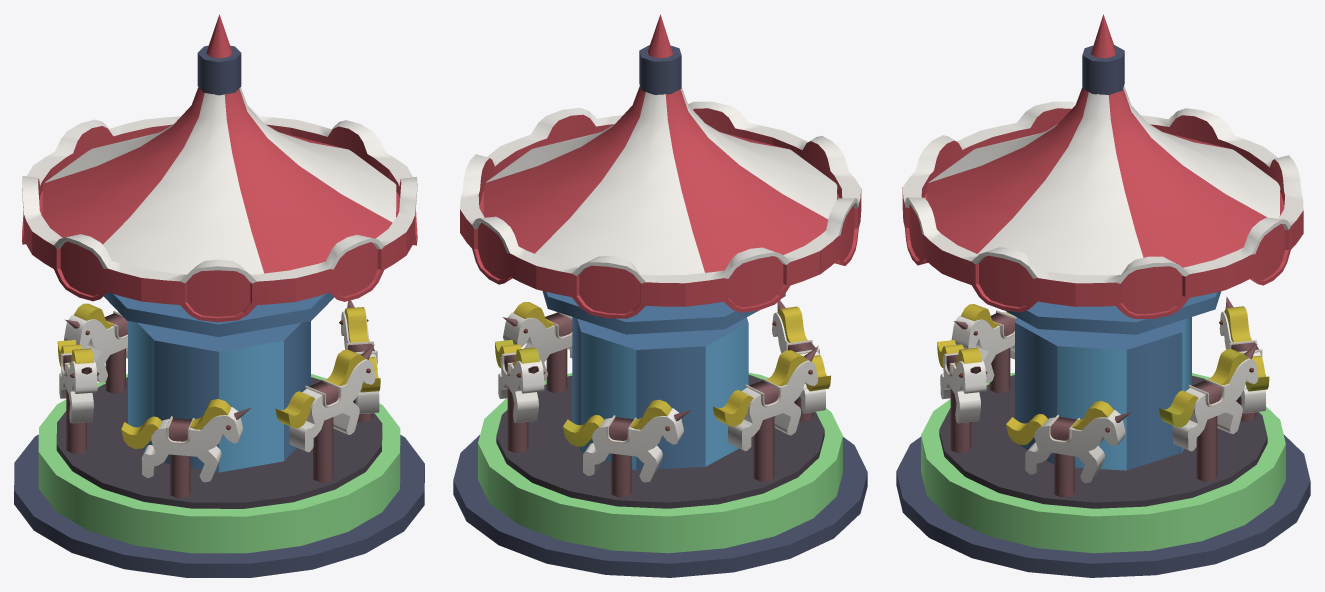
File: Carousel_Base.fbx
3 renders of one model, left to right at view 1: azimuth 30°, elevation 25°; view 2: azimuth 150°, elevation 25°; view 3: azimuth 270°, elevation 25°, orthographic.
Visible parts, largest first — view 1: Carousel_Base1; view 2: Carousel_Base1; view 3: Carousel_Base1.
Part boxes in pixels (x1,y1,x2,y2): Carousel_Base1: [14, 14, 424, 577]; Carousel_Base1: [453, 14, 867, 577]; Carousel_Base1: [896, 14, 1310, 577].
Bounding box in the file's own units: 5.57 × 7.16 × 5.57.
